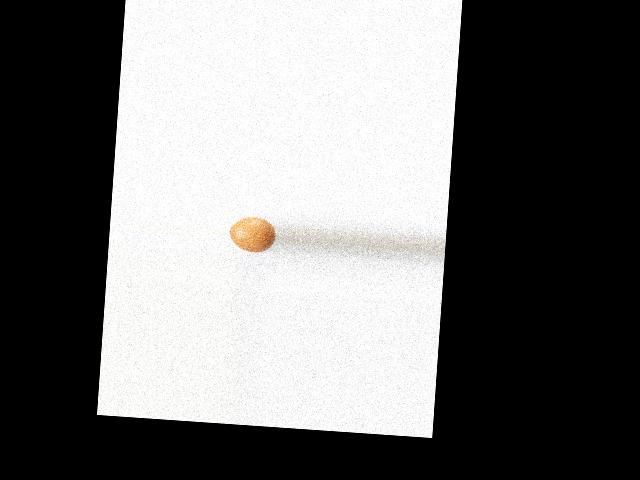egg: (228, 216, 276, 254)
